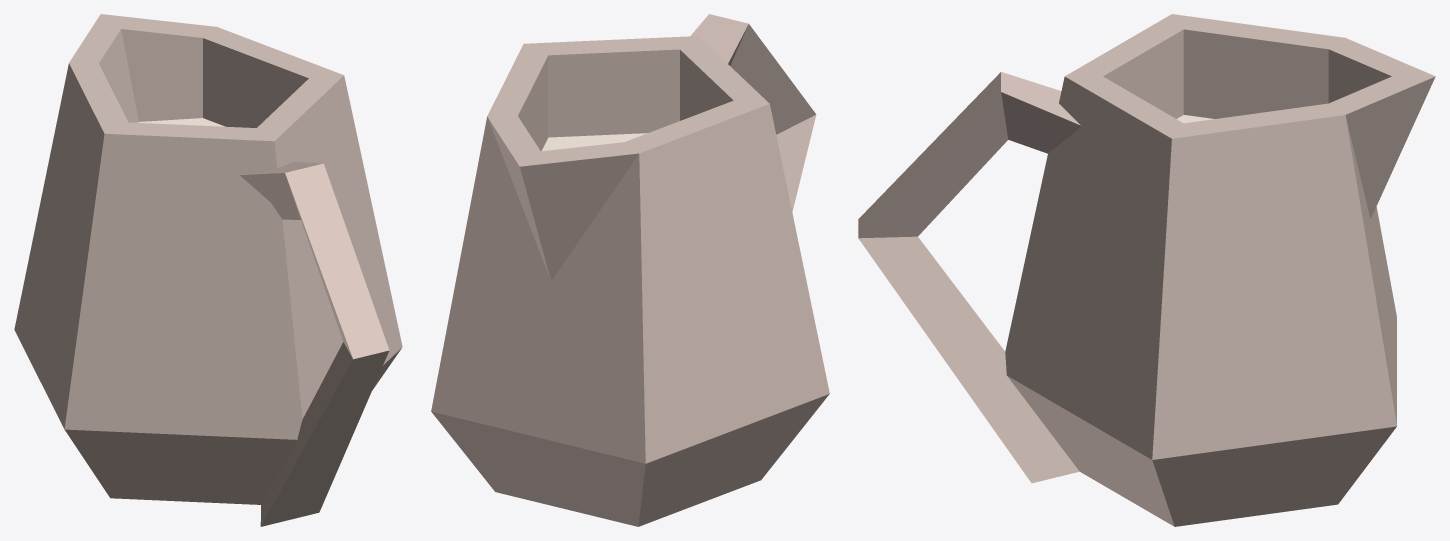
Rendered from Milk.fbx.
3 views of the same model, side by side, from view 1: azimuth 30°, elevation 25°; view 2: azimuth 150°, elevation 25°; view 3: azimuth 270°, elevation 25° (orthographic). The views are drawn at different scales.
Parts seen in each view (by area): view 1: Milk; view 2: Milk; view 3: Milk.
Part boxes in pixels (x1,y1,x2,y2): Milk: (14,14,402,526); Milk: (431,14,829,526); Milk: (858,14,1435,526).
Bounding box in the file's own units: 56.44 × 58.58 × 78.24.
